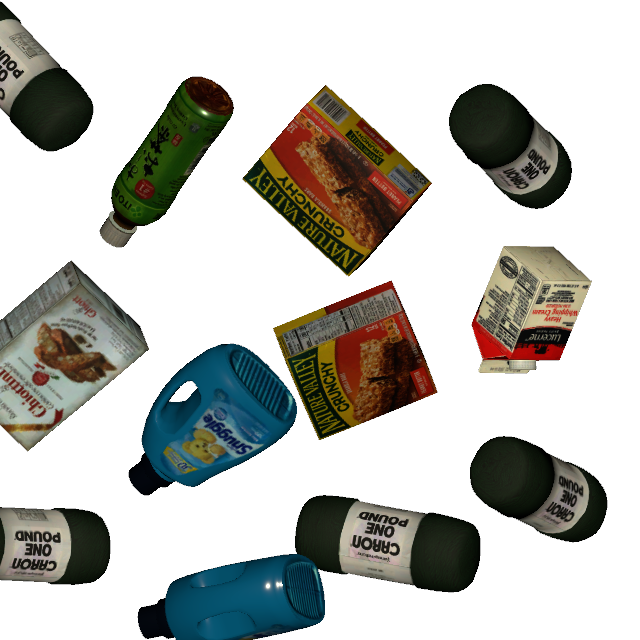cleaning_snuggle_henkel: (128, 344, 297, 496), (138, 554, 325, 640)
craft_yarn_caron: (295, 495, 481, 592), (449, 84, 572, 209), (470, 436, 607, 542), (0, 1, 94, 152), (0, 507, 110, 585)
drink_greentea_itoen: (100, 76, 234, 248)
drink_whippingcream_lucerne: (471, 246, 592, 374)
snack_biscotti_ghiott: (0, 261, 149, 451)
snack_granolabar_naturevalley: (243, 85, 432, 277), (273, 281, 438, 440)
